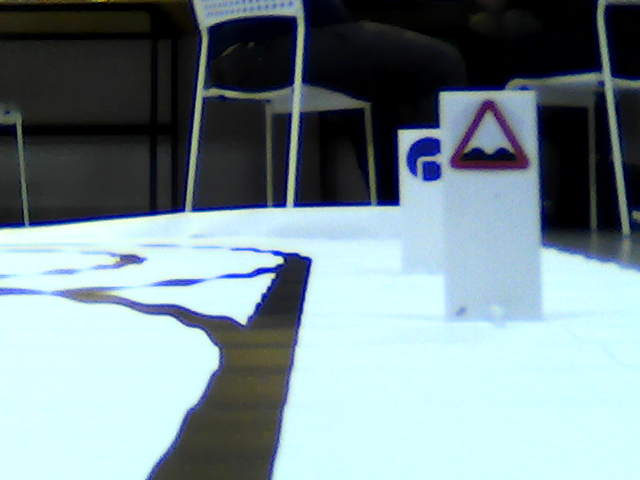Nerov: (448, 94, 532, 176)
Right: (406, 137, 443, 182)
